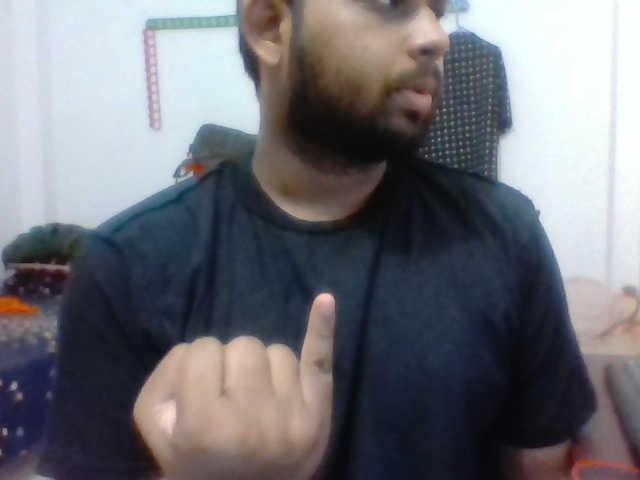I: (116, 288, 353, 480)
